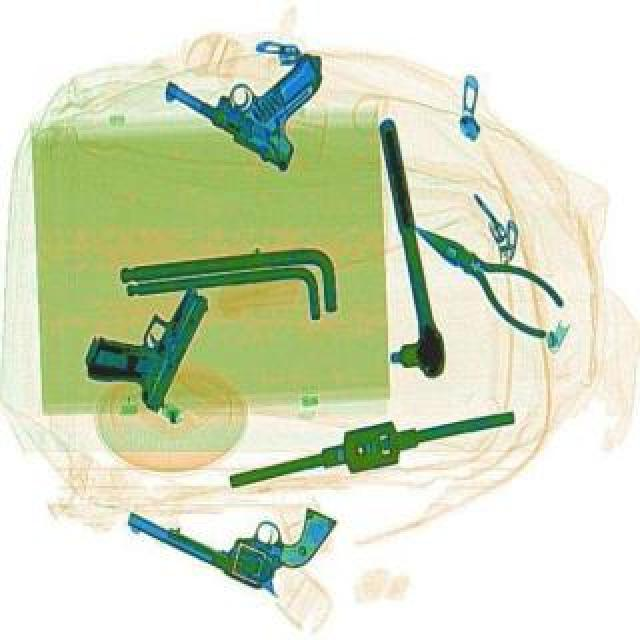gun: (118, 440, 336, 604), (154, 0, 350, 172), (72, 260, 212, 412)
wrench: (396, 206, 574, 342)
